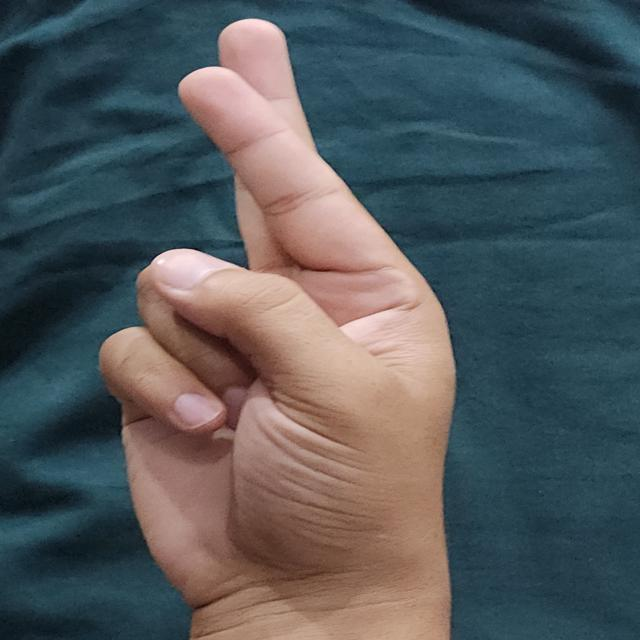ب: (100, 14, 469, 631)
